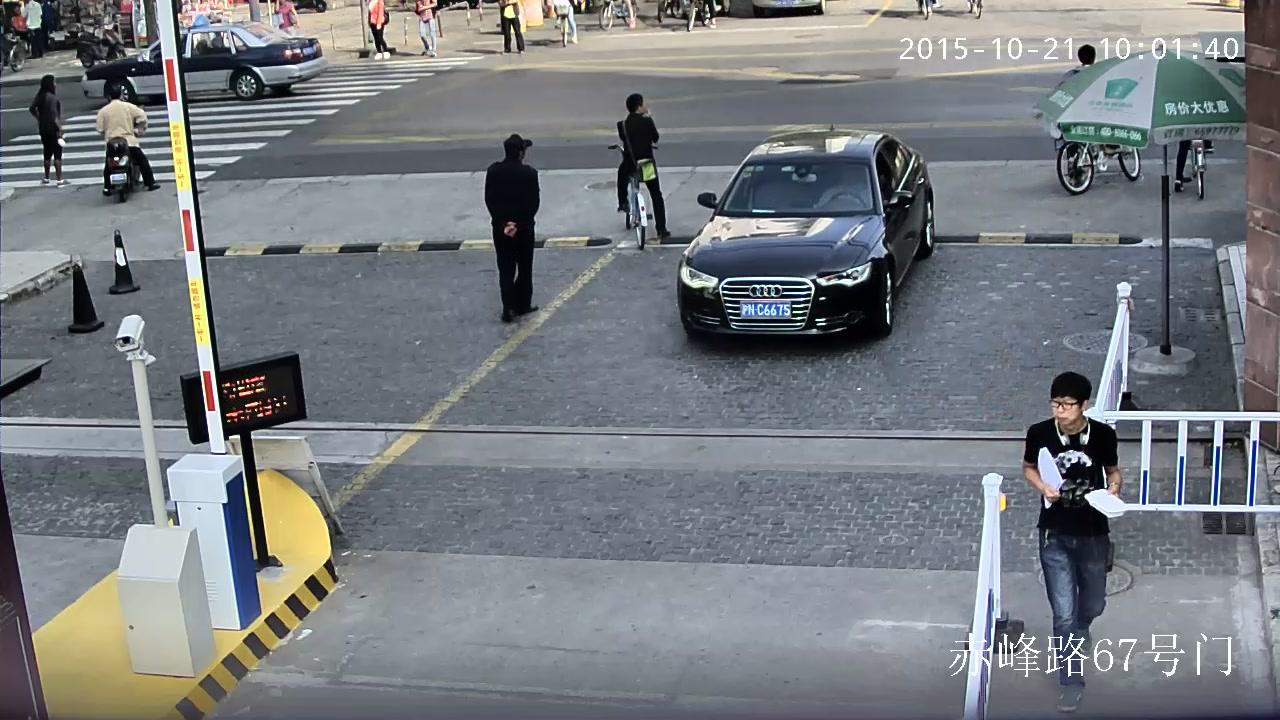person: (1023, 371, 1124, 711), (1042, 43, 1141, 194), (1042, 44, 1122, 184), (483, 133, 539, 323), (608, 92, 670, 249), (614, 92, 671, 237), (92, 84, 161, 202), (93, 84, 160, 195), (29, 75, 70, 187), (367, 0, 392, 60), (498, 0, 525, 54), (548, 0, 578, 48), (414, 0, 438, 57), (548, 0, 578, 44), (24, 0, 44, 59), (274, 0, 298, 40)
